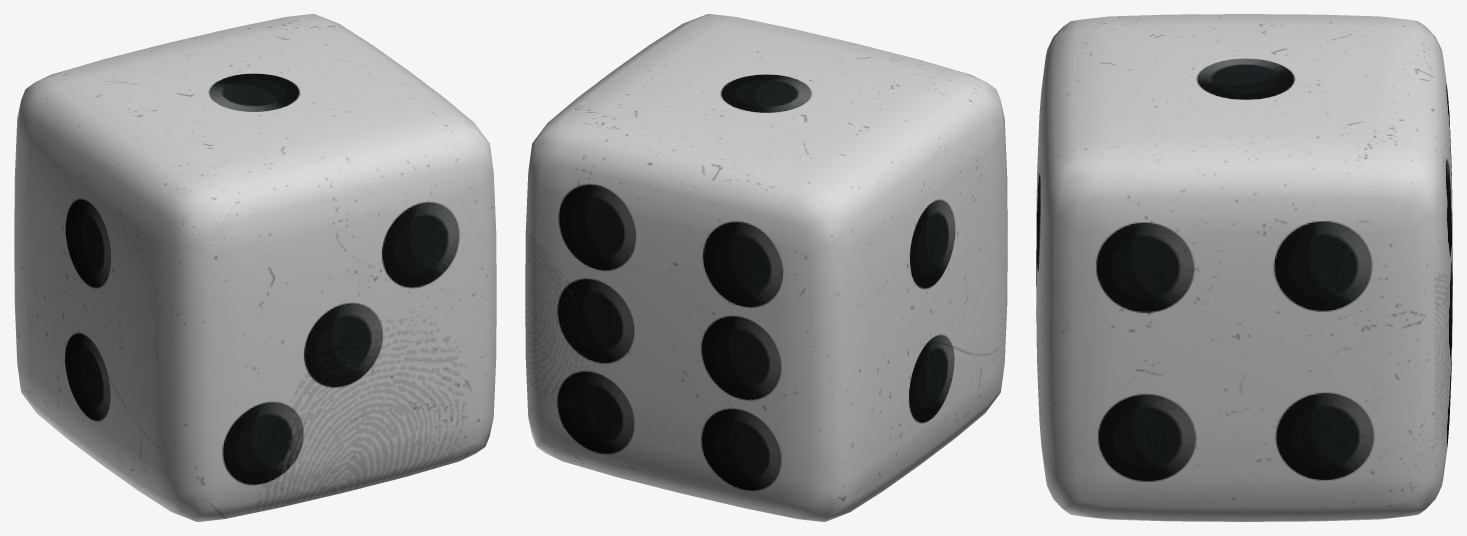
The model's file is Die.fbx.
3 views of the same model, side by side, from view 1: azimuth 30°, elevation 25°; view 2: azimuth 150°, elevation 25°; view 3: azimuth 270°, elevation 25° (orthographic). The views are drawn at different scales.
Parts seen in each view (by area): view 1: Cube; view 2: Cube; view 3: Cube.
Boxes of the visible parts, x1,y1,x2,y2 form: Cube: (14, 14, 496, 521); Cube: (525, 14, 1007, 521); Cube: (1036, 14, 1452, 521).
Bounding box in the file's own units: 198 × 198 × 198.
